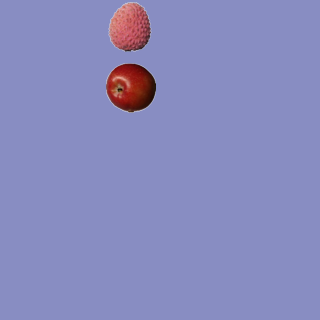Apple Braeburn: (105, 62, 155, 112)
Lychee: (104, 1, 154, 51)
